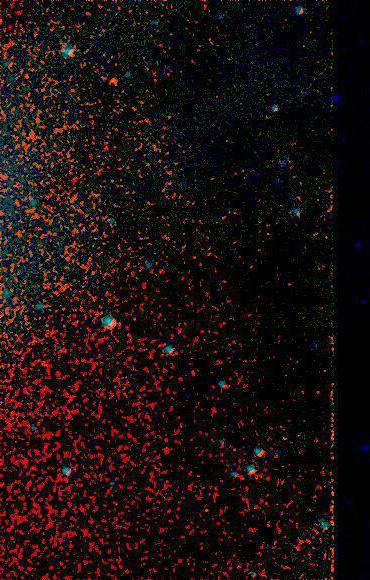star: (99, 68, 129, 98)
